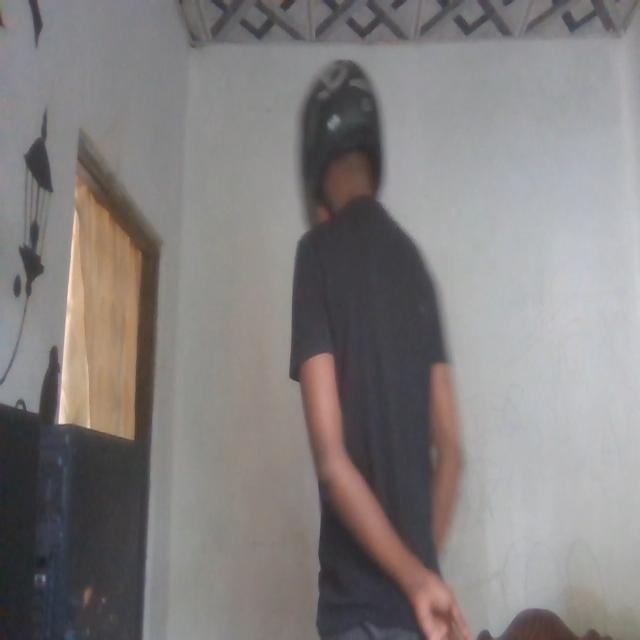Helmet_Wearer: (283, 50, 381, 226)
Person: (287, 70, 469, 640)
